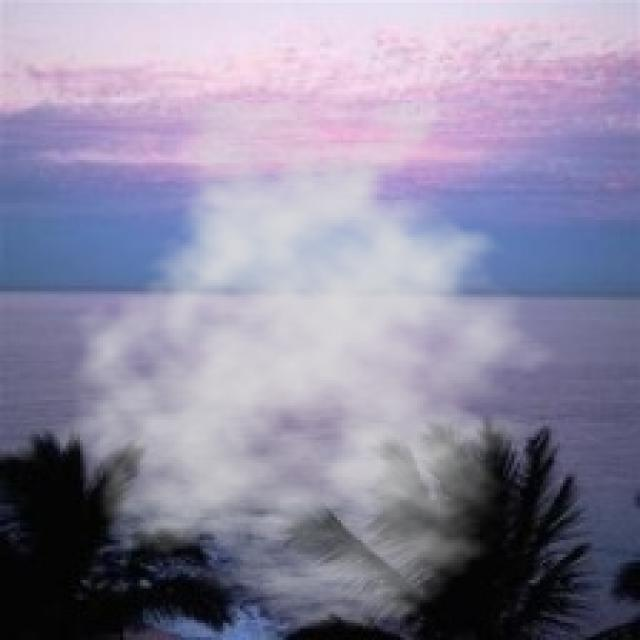Smoke: (51, 103, 583, 632)
